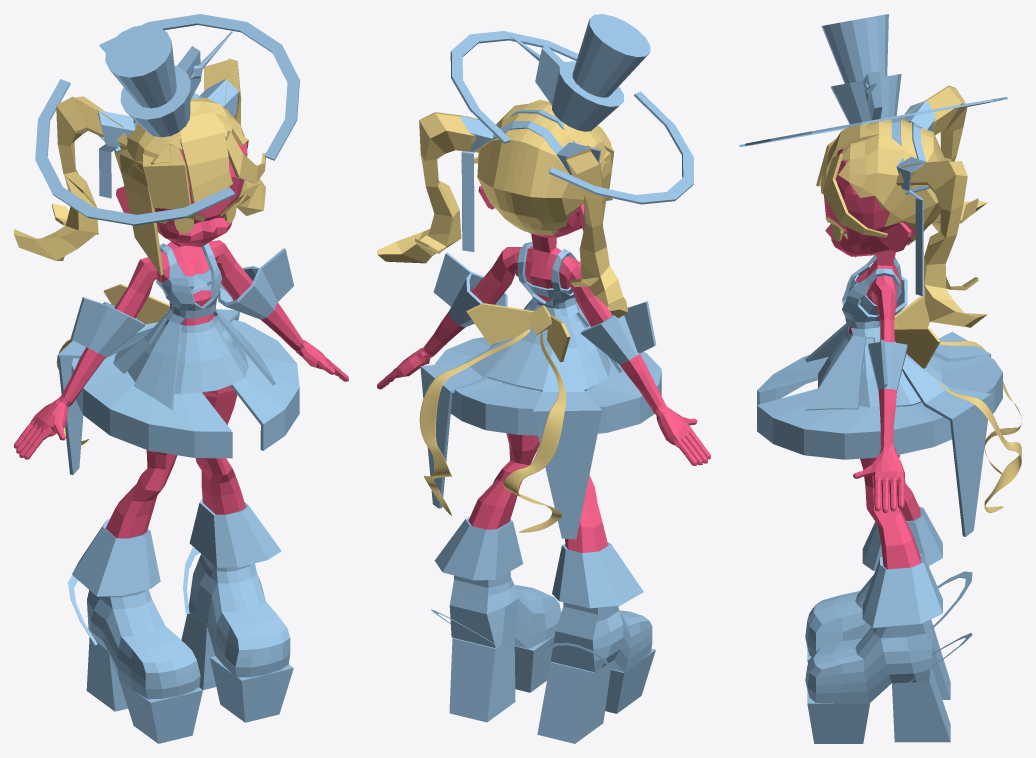
3 renders of one model, left to right at view 1: azimuth 30°, elevation 25°; view 2: azimuth 150°, elevation 25°; view 3: azimuth 270°, elevation 25°, orthographic.
Parts seen in each view (by area): view 1: Vert.013, Vert.016, Vert.002, Vert.005, Cylinder, Vert.015, Vert.012, Vert.008, Cube.003, Vert.010; view 2: Vert.013, Vert.002, Vert.015, Vert.005, Cylinder, Vert.016, Cube.003, Vert.012, Vert.008; view 3: Vert.013, Vert.002, Vert.016, Vert.015, Vert.005, Cylinder, Cube.003, Vert.008, Vert.012.
Boxes of the visible parts, <box> form: Vert.013: <box>68,498,293,743</box>; Vert.016: <box>71,315,299,458</box>; Vert.002: <box>14,58,265,275</box>; Vert.005: <box>14,134,348,538</box>; Cylinder: <box>35,14,299,225</box>; Vert.015: <box>57,243,275,474</box>; Vert.012: <box>70,248,293,356</box>; Vert.008: <box>98,79,238,198</box>; Cube.003: <box>56,284,169,445</box>; Vert.010: <box>156,269,211,295</box>; Vert.013: <box>431,516,655,743</box>; Vert.002: <box>377,99,628,318</box>; Vert.015: <box>420,242,623,539</box>; Vert.005: <box>377,141,710,552</box>; Cylinder: <box>450,14,693,204</box>; Vert.016: <box>434,314,661,435</box>; Cube.003: <box>419,303,570,532</box>; Vert.012: <box>433,252,656,364</box>; Vert.008: <box>460,110,600,251</box>; Vert.013: <box>805,506,972,743</box>; Vert.002: <box>816,85,987,327</box>; Vert.016: <box>757,326,1002,459</box>; Vert.015: <box>805,255,991,536</box>; Vert.005: <box>824,148,920,569</box>; Cylinder: <box>739,14,1007,146</box>; Cube.003: <box>894,293,1021,512</box>; Vert.008: <box>891,101,935,295</box>; Vert.012: <box>868,276,907,391</box>.
Bounding box in the file's own units: 84.03 × 170 × 63.95.
